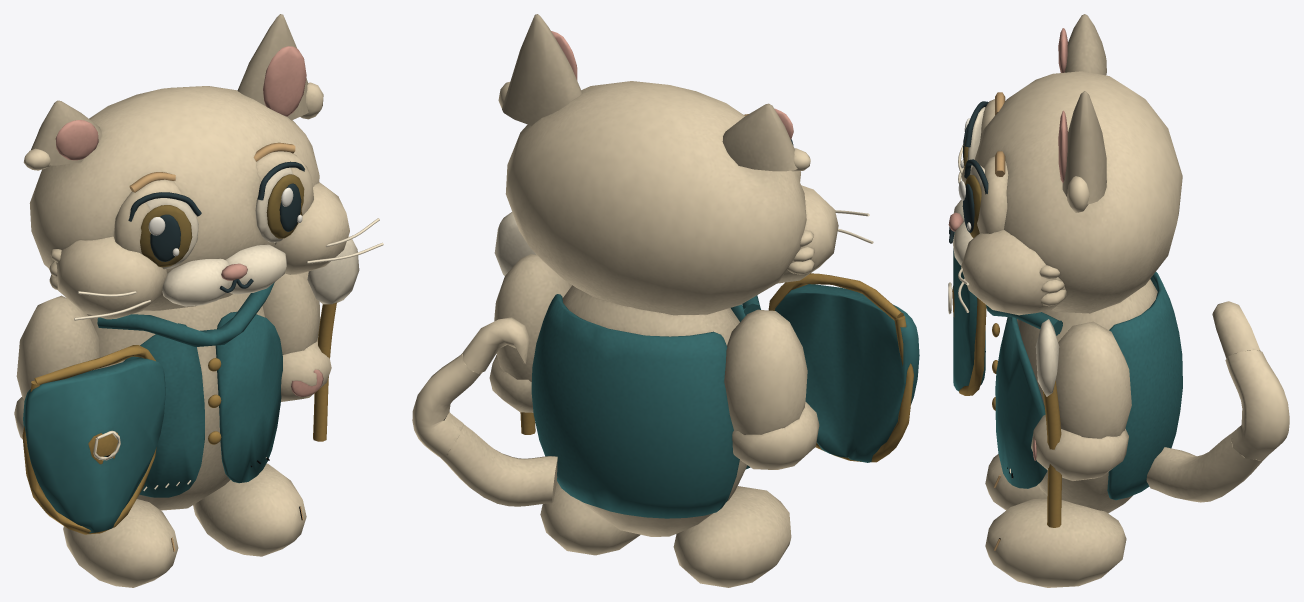
Rendered from mochi.glb.
3 renders of one model, left to right at view 1: azimuth 30°, elevation 25°; view 2: azimuth 150°, elevation 25°; view 3: azimuth 270°, elevation 25°, orthographic. The views are drawn at different scales.
Parts seen in each view (by area): view 1: cheek-head, pear-body, rounded-shield, hind-paw.001, porcelain-eye, hind-paw, arm.001, arm, rounded-ear-R, ladle-handle, rounded-ear-L, nose; view 2: cheek-head, pear-body, rounded-shield, arm, hind-paw, arm.001, rounded-ear-R, tail-root, rounded-ear-L, tail-mid, hind-paw.001, tail-tip (+1 smaller); view 3: cheek-head, pear-body, arm.001, hind-paw.001, tail-mid, tail-root, rounded-ear-R, rounded-shield, ladle-handle, porcelain-eye, rounded-ear-L, tail-tip (+1 smaller).
Part boxes in pixels (x1,y1,x2,y2): cheek-head: [29, 86, 383, 320]; pear-body: [87, 282, 282, 510]; rounded-shield: [22, 345, 165, 534]; hind-paw.001: [193, 463, 306, 556]; porcelain-eye: [128, 161, 304, 269]; hind-paw: [63, 499, 178, 587]; arm.001: [262, 271, 331, 401]; arm: [14, 295, 100, 438]; rounded-ear-R: [237, 14, 323, 120]; ladle-handle: [307, 236, 359, 441]; rounded-ear-L: [23, 100, 101, 170]; nose: [219, 263, 253, 292]; cheek-head: [505, 81, 873, 315]; pear-body: [531, 285, 760, 536]; rounded-shield: [768, 273, 919, 462]; arm: [724, 309, 819, 469]; hind-paw: [673, 486, 791, 587]; arm.001: [489, 254, 571, 412]; rounded-ear-R: [498, 14, 582, 125]; tail-root: [440, 424, 557, 506]; rounded-ear-L: [722, 103, 810, 171]; tail-mid: [412, 353, 481, 457]; hind-paw.001: [540, 481, 640, 555]; tail-tip: [463, 317, 529, 373]; cheek-head: [953, 71, 1182, 315]; pear-body: [986, 272, 1182, 513]; arm.001: [1031, 321, 1131, 480]; hind-paw.001: [985, 498, 1126, 587]; tail-mid: [1225, 350, 1289, 460]; tail-root: [1146, 431, 1267, 502]; rounded-ear-R: [1058, 91, 1106, 212]; rounded-shield: [948, 231, 986, 395]; ladle-handle: [1035, 319, 1061, 527]; porcelain-eye: [958, 101, 988, 237]; rounded-ear-L: [1058, 14, 1106, 75]; tail-tip: [1212, 301, 1260, 358].
Bounding box in the file's own units: 1.21 × 1.6 × 0.9638.
1 material, 1 textured.
